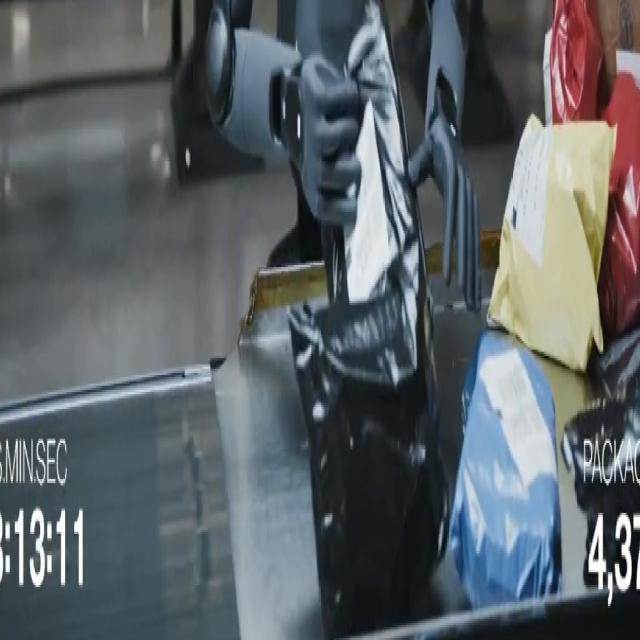package: (288, 0, 448, 637), (488, 117, 615, 370), (449, 331, 561, 608), (562, 397, 639, 591), (599, 73, 639, 341), (549, 0, 603, 125), (597, 0, 639, 89), (594, 329, 639, 398), (543, 28, 552, 125)
